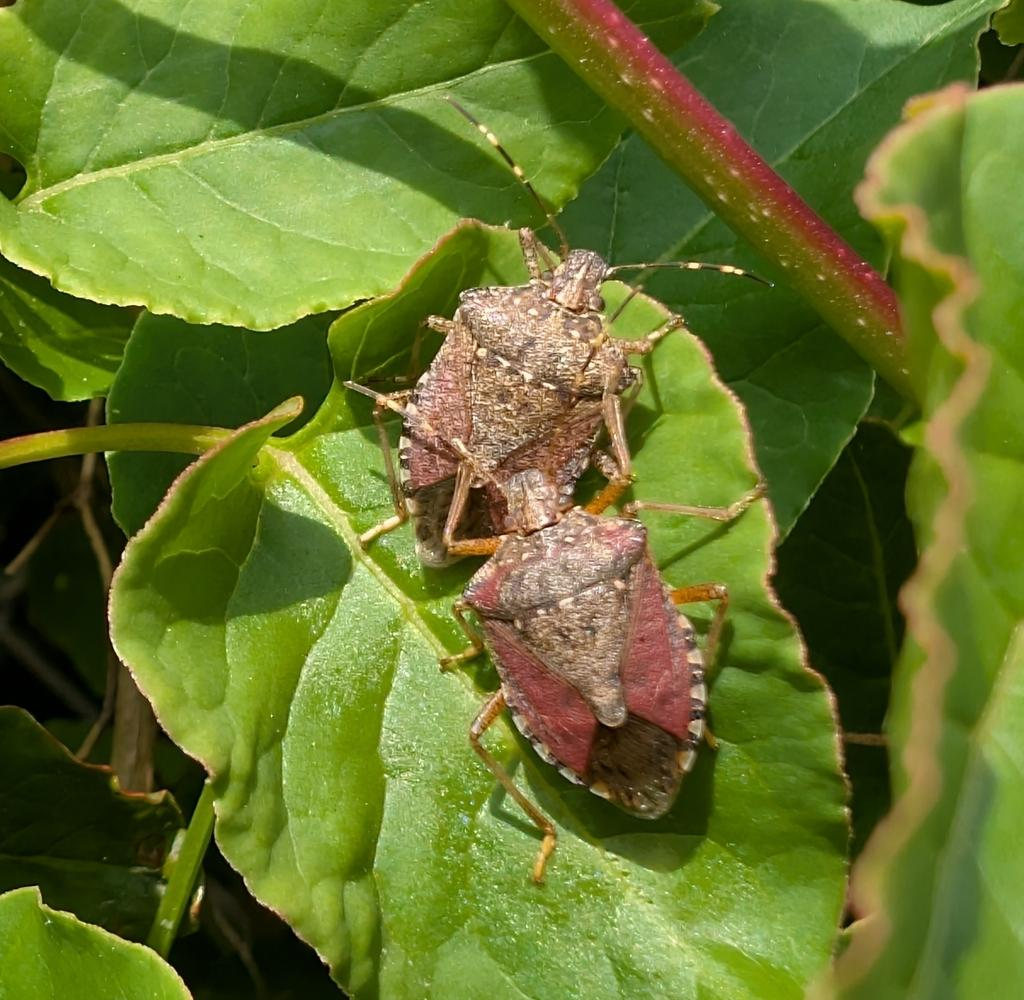stink_bugs: (294, 336, 819, 911), (317, 65, 816, 580)
